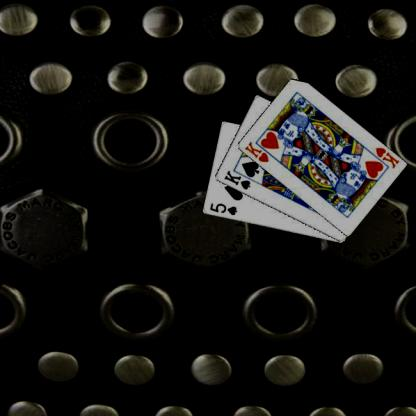5S: (207, 201, 238, 217)
KH: (372, 144, 400, 170), (242, 139, 270, 164)
KS: (222, 168, 252, 191)
